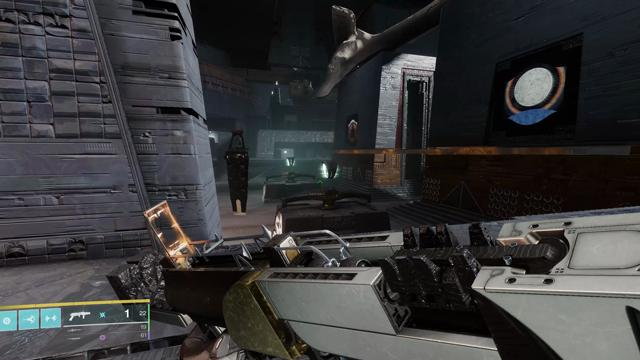pyramid: (347, 119, 358, 143)
traveler: (505, 62, 566, 126)
